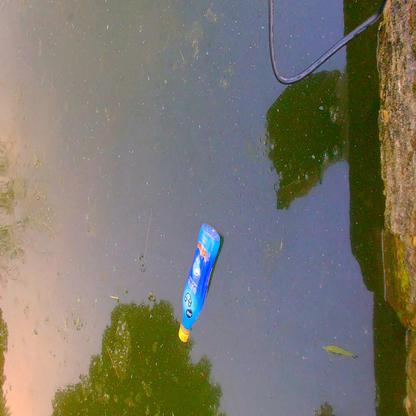plastic bottle: (177, 223, 221, 343)
